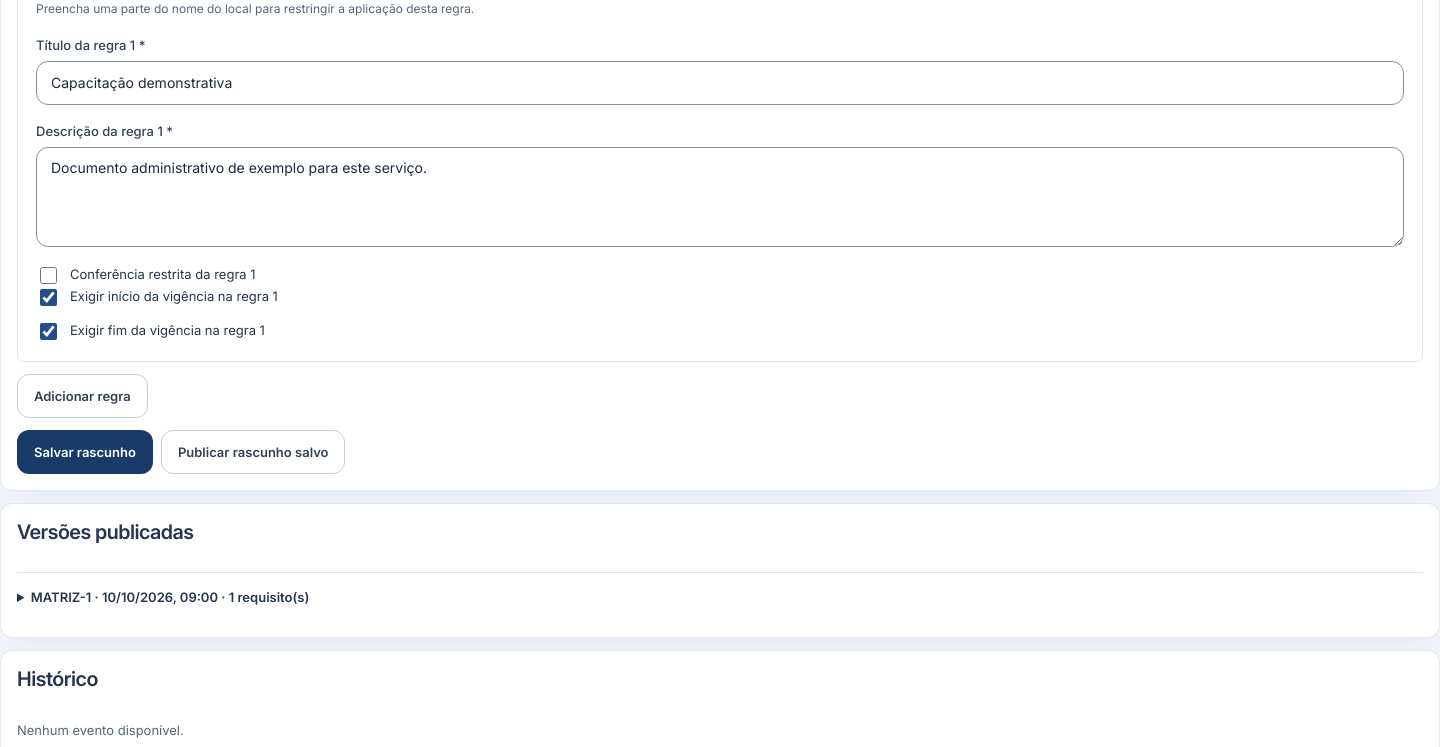
it: matriz de requisitos por unidade › publica somente rascunho salvo com motivo válido e confirmação explícita
(page scrolled)
Click the button "Publicar rascunho salvo" at point(253, 452), box [161,430,346,474]
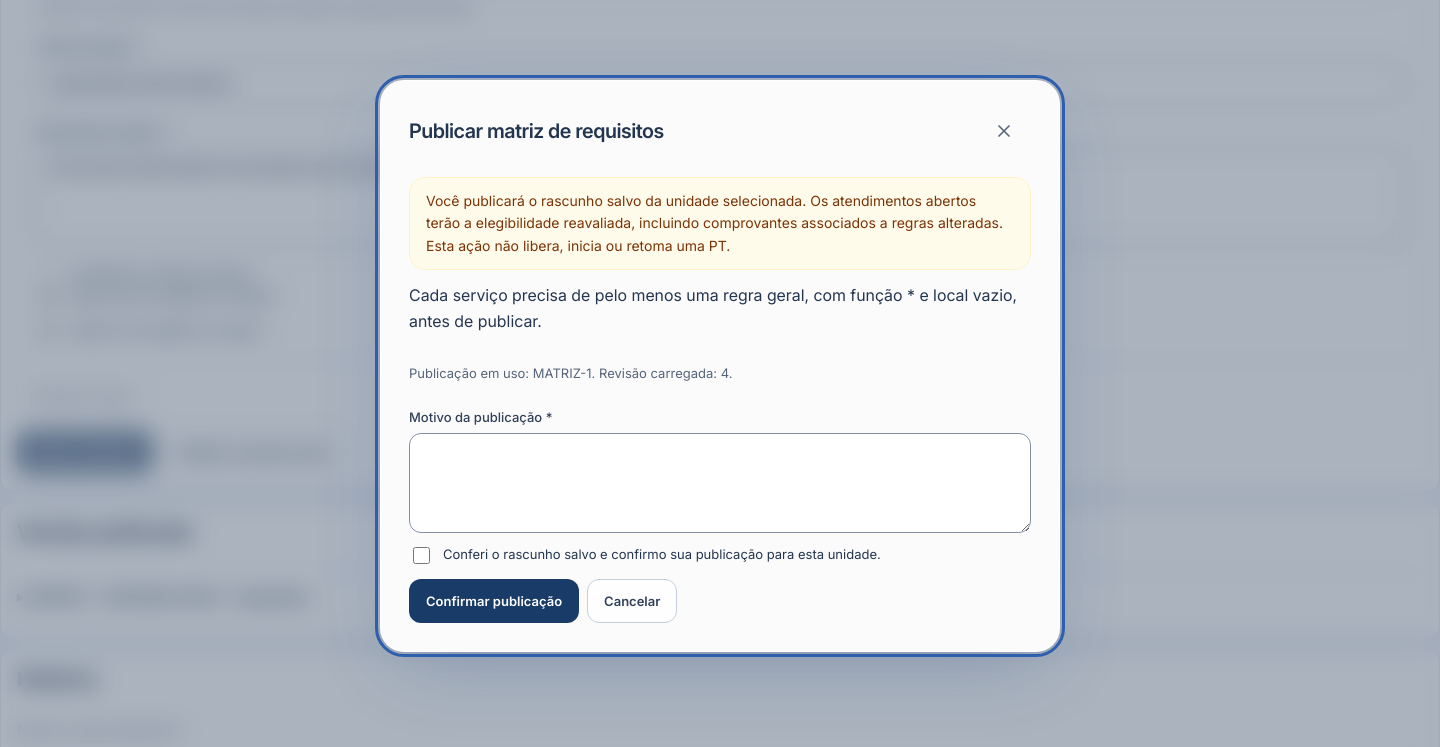
Click the button "Confirmar publicação" at point(494, 601), box [409,579,579,623]
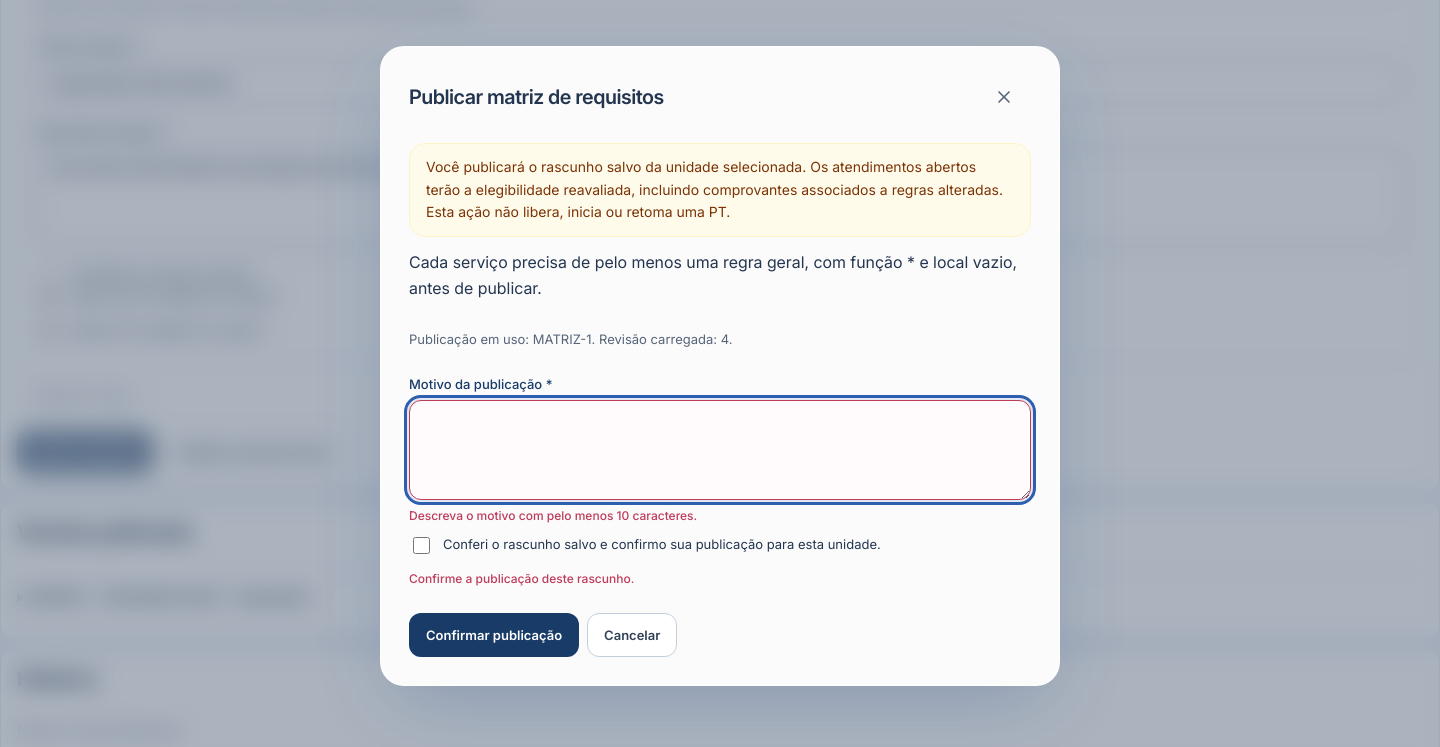
Check: the text "Descreva o motivo com pelo menos 10 caracteres." is shown, box [409,508,697,523]
Check: the text "Confirme a publicação deste rascunho." is shown, box [409,571,634,586]
Type "Critérios administrativos revisados para o teste." into the text box labelled "Motivo da publicação *" at point(720, 450), box [409,400,1031,500]
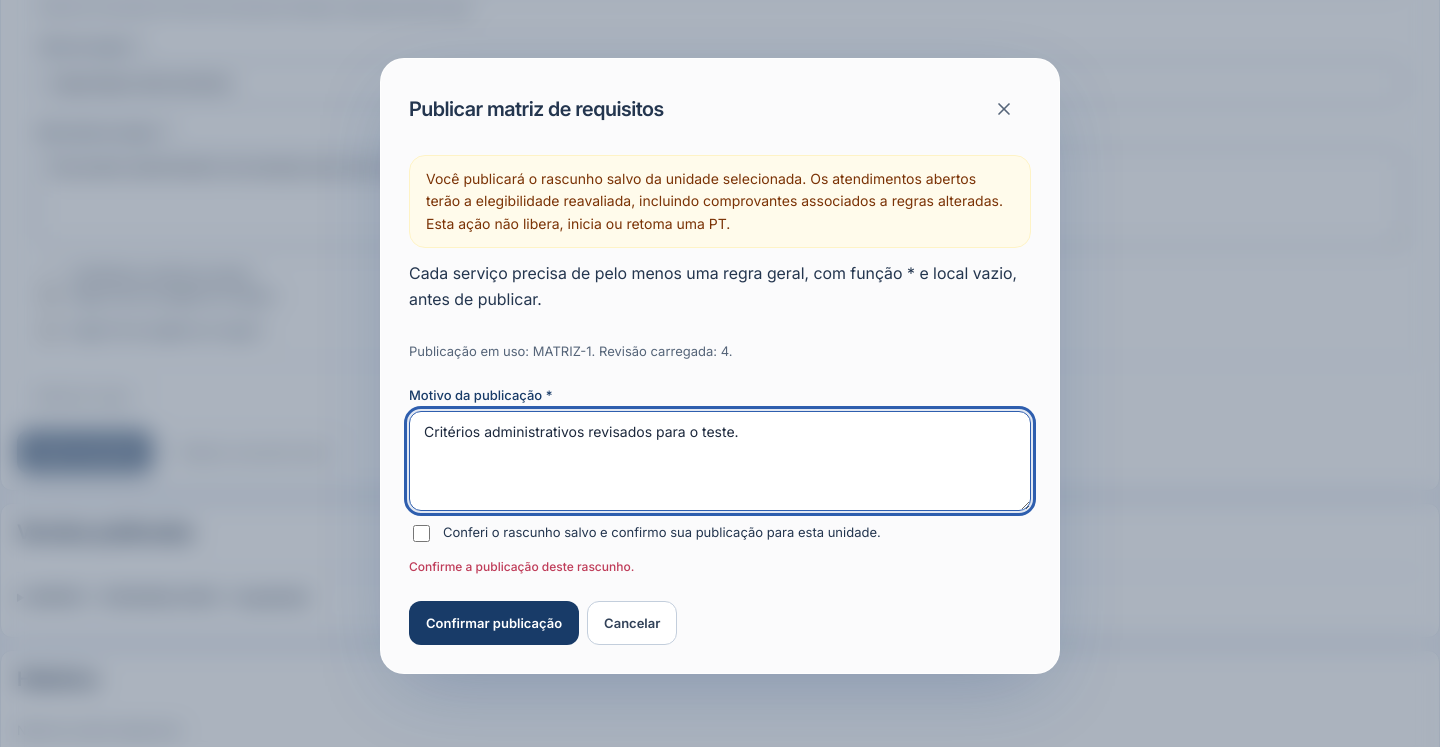
Click the checkbox at point(422, 534), box [413,525,430,542]
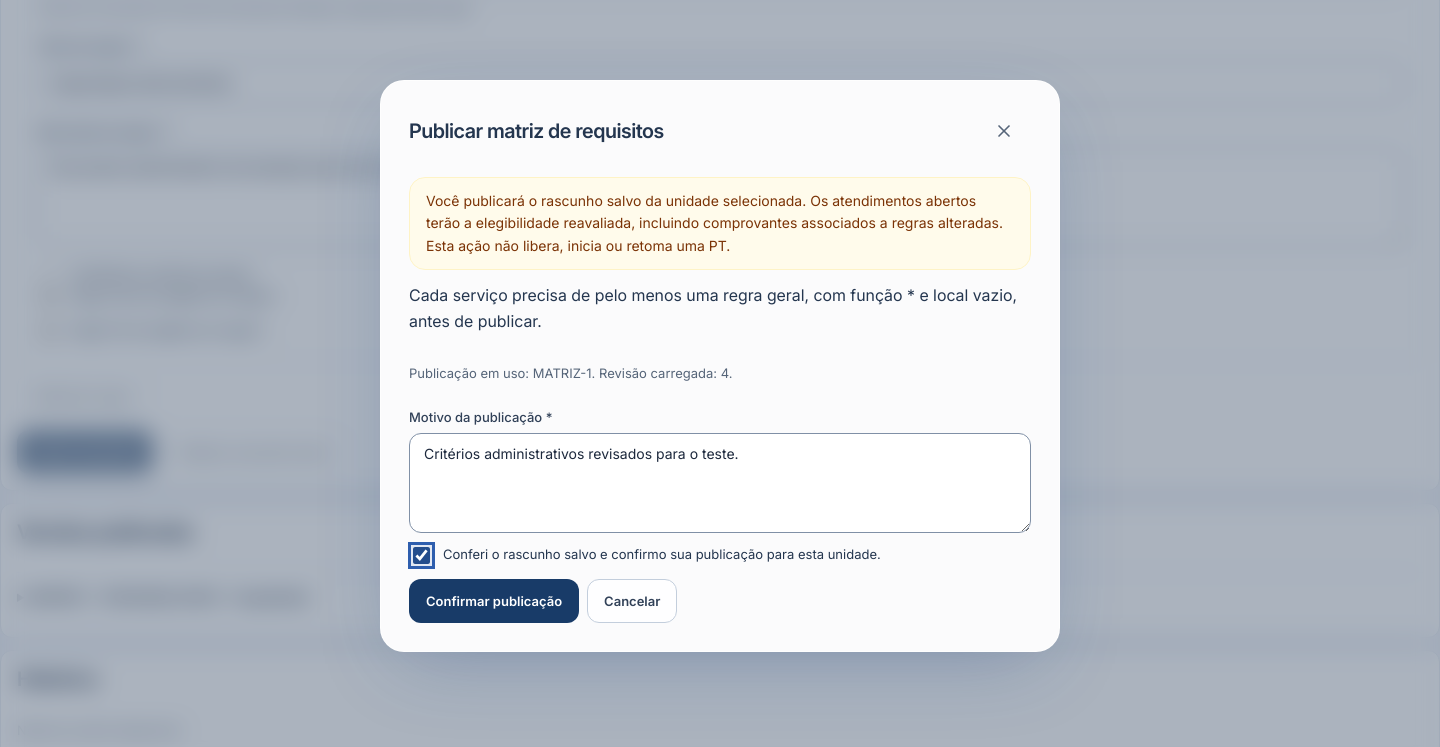
Click the button "Confirmar publicação" at point(494, 601), box [409,579,579,623]
(page scrolled)
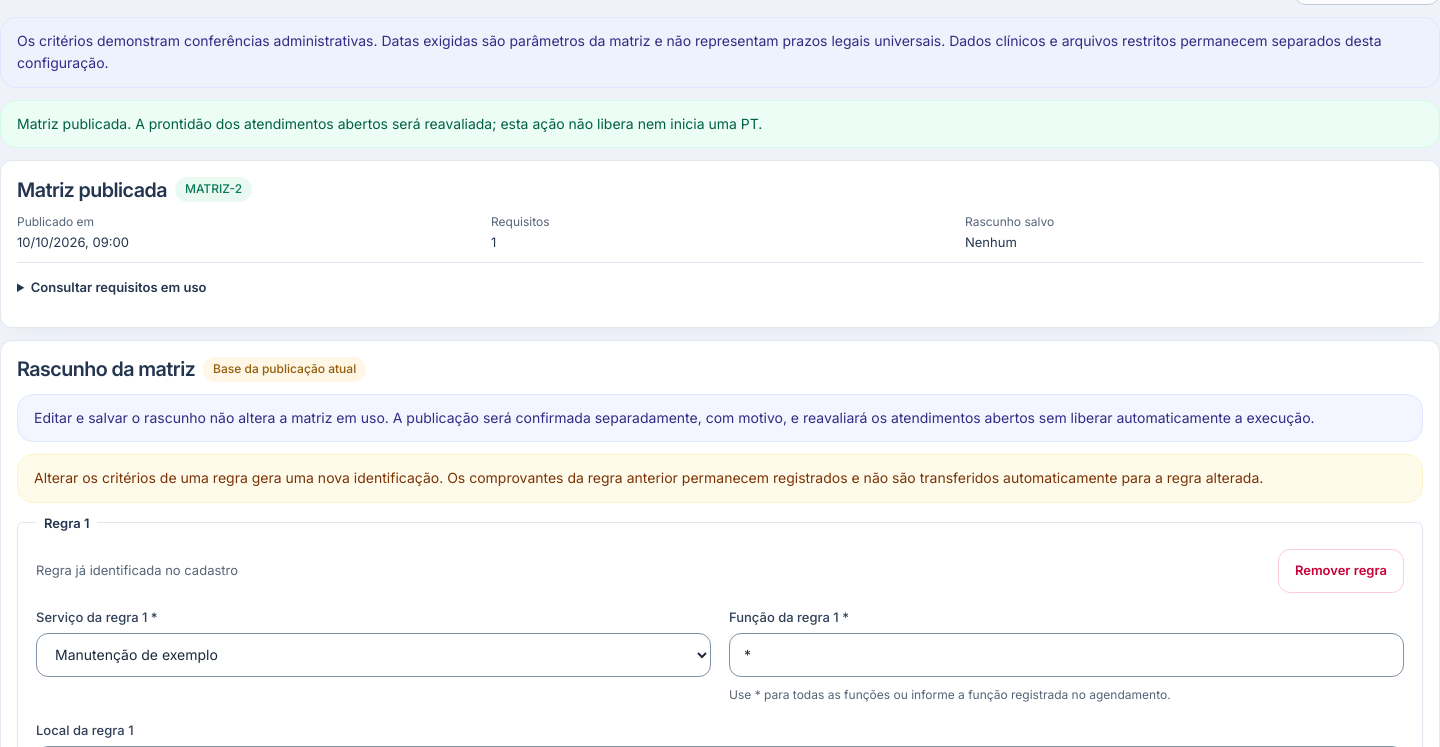
Check: the text "Matriz publicada. A prontidão" is shown, box [17,115,762,132]
